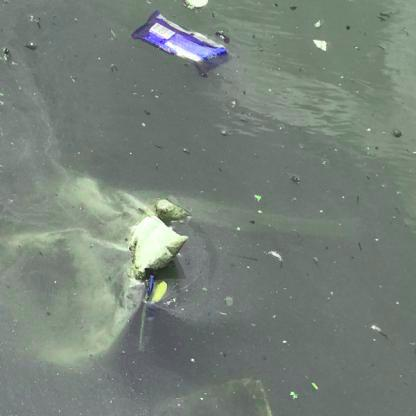Trash: (129, 9, 237, 79), (129, 215, 189, 279), (154, 198, 189, 223), (183, 0, 211, 7)
